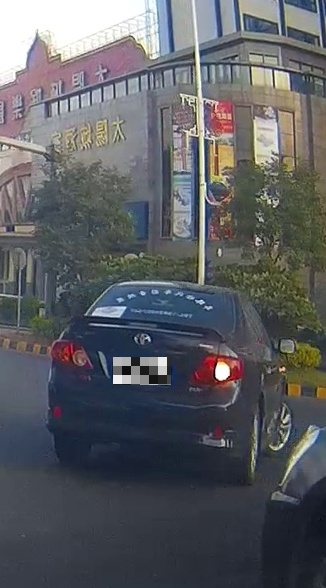L_light: (49, 338, 94, 371)
R_light: (188, 353, 243, 386)
T_light: (153, 286, 176, 292)
day-right: (45, 278, 249, 483)
plate_1: (113, 357, 171, 385)
